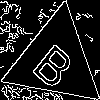B: (30, 35, 83, 91)
